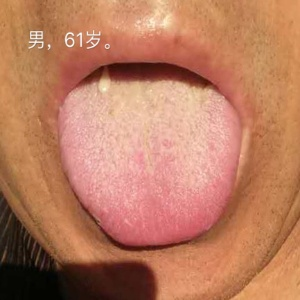st: (60, 93, 248, 249)
